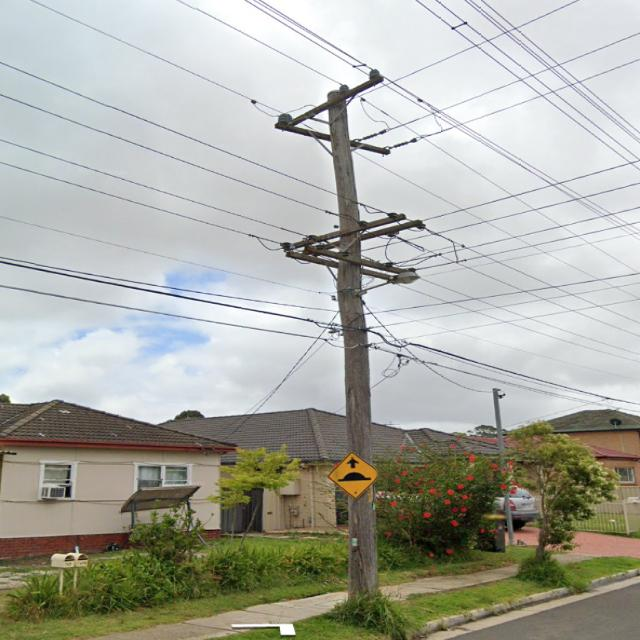HV-transmission: (274, 69, 420, 155)
crossarm: (280, 213, 405, 251), (288, 77, 382, 125), (273, 124, 389, 156), (307, 221, 422, 252), (284, 253, 396, 283), (304, 248, 406, 274)
timber-pole: (326, 90, 380, 606)
